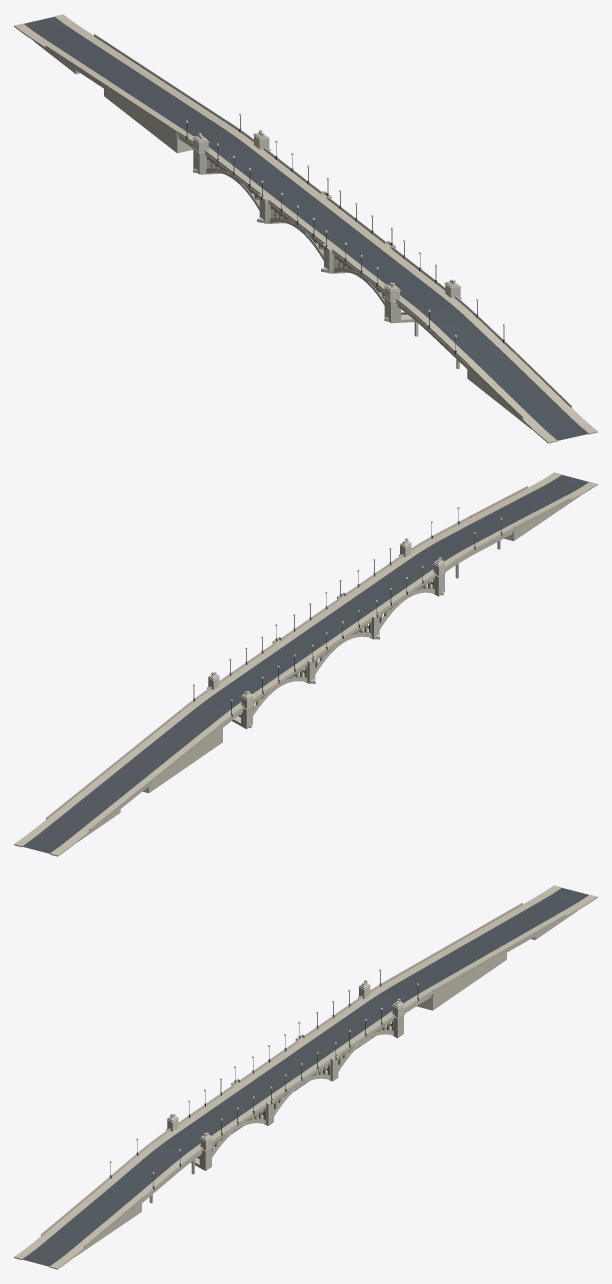
Rendered from centre-street-bridge-far.glb.
The picture shows the model from 3 angles, top to bottom: view 1: azimuth 30°, elevation 25°; view 2: azimuth 150°, elevation 25°; view 3: azimuth 330°, elevation 25°; orthographic projection. The views are drawn at different scales.
Parts seen in each view (by area): view 1: centre-street-bridge-0-asphalt, centre-street-bridge-0-deck, centre-street-bridge-0-concrete, centre-street-bridge-0-balustrade, centre-street-bridge-0-iron, centre-street-bridge-0-spandrel; view 2: centre-street-bridge-0-asphalt, centre-street-bridge-0-deck, centre-street-bridge-0-concrete, centre-street-bridge-0-balustrade, centre-street-bridge-0-spandrel, centre-street-bridge-0-iron; view 3: centre-street-bridge-0-asphalt, centre-street-bridge-0-deck, centre-street-bridge-0-concrete, centre-street-bridge-0-balustrade, centre-street-bridge-0-spandrel, centre-street-bridge-0-iron.
Part boxes in pixels (<box>): centre-street-bridge-0-asphalt: <box>24,17,588,440</box>; centre-street-bridge-0-deck: <box>14,14,597,443</box>; centre-street-bridge-0-concrete: <box>34,34,571,429</box>; centre-street-bridge-0-balustrade: <box>177,119,516,364</box>; centre-street-bridge-0-iron: <box>186,115,504,354</box>; centre-street-bridge-0-spandrel: <box>207,156,384,300</box>; centre-street-bridge-0-asphalt: <box>22,475,588,853</box>; centre-street-bridge-0-deck: <box>14,472,597,856</box>; centre-street-bridge-0-concrete: <box>46,486,580,841</box>; centre-street-bridge-0-balustrade: <box>179,515,513,723</box>; centre-street-bridge-0-spandrel: <box>253,578,434,711</box>; centre-street-bridge-0-iron: <box>193,509,502,716</box>; centre-street-bridge-0-asphalt: <box>22,888,588,1266</box>; centre-street-bridge-0-deck: <box>14,885,597,1269</box>; centre-street-bridge-0-concrete: <box>41,902,577,1256</box>; centre-street-bridge-0-balustrade: <box>98,978,432,1199</box>; centre-street-bridge-0-spandrel: <box>212,1019,393,1152</box>; centre-street-bridge-0-iron: <box>110,971,418,1189</box>.
Size of the model in its own units: 32.7 by 17.26 by 425.
